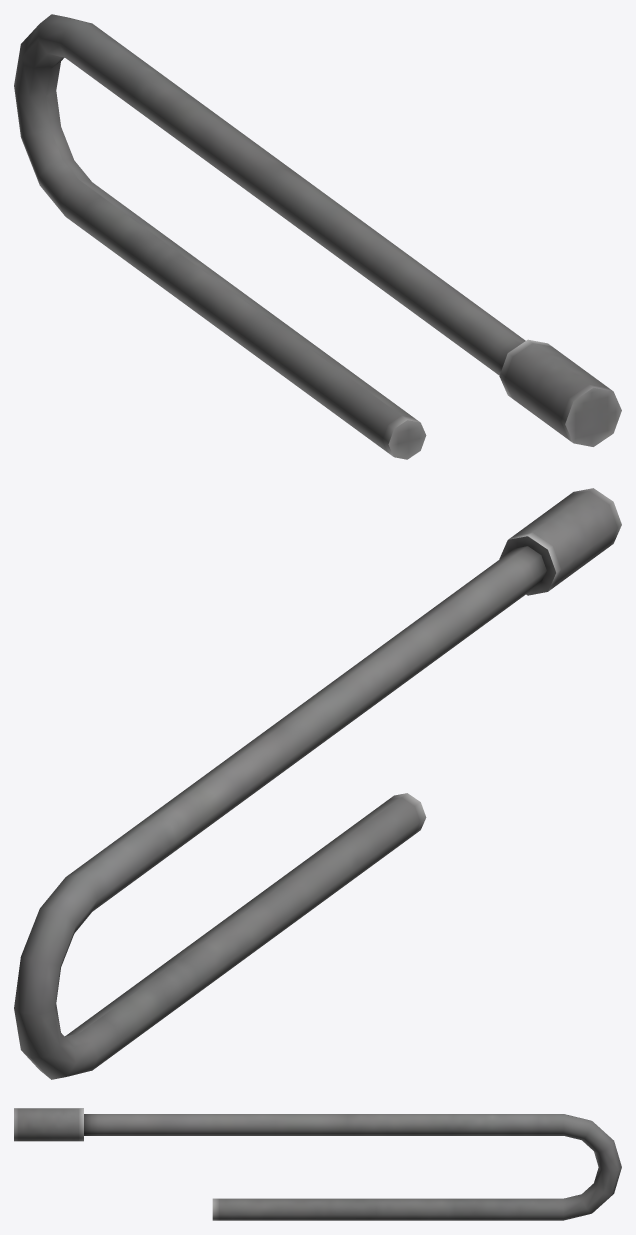
File: hook.obj
The picture shows the model from 3 angles, top to bottom: view 1: azimuth 30°, elevation 25°; view 2: azimuth 150°, elevation 25°; view 3: azimuth 270°, elevation 25°; orthographic projection. The views are drawn at different scales.
Parts seen in each view (by area): view 1: hook; view 2: hook; view 3: hook.
Part boxes in pixels (x1,y1,x2,y2): hook: [14, 14, 621, 459]; hook: [14, 488, 621, 1079]; hook: [14, 1108, 621, 1220].
Bounding box in the file's own units: 0.0375 × 0.1312 × 0.65.
Materials: 1 (1 with a texture image).
